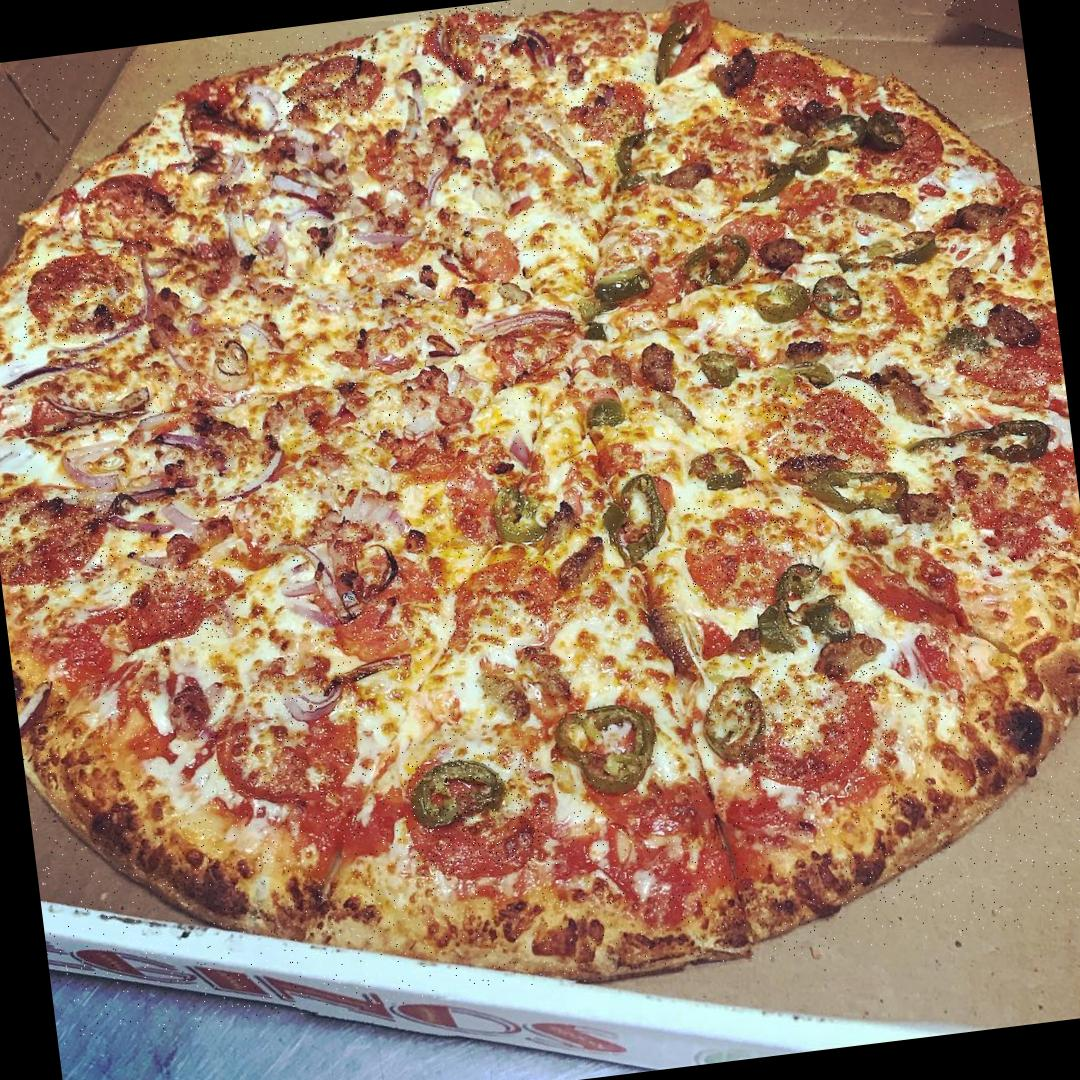Onion: (320, 457, 418, 600), (258, 532, 366, 636), (82, 465, 204, 550), (260, 116, 372, 208), (193, 146, 261, 281), (399, 364, 497, 445), (29, 377, 151, 432), (42, 306, 152, 366), (280, 192, 376, 260), (467, 301, 584, 352), (474, 20, 561, 83), (526, 117, 592, 200), (0, 348, 113, 396), (205, 445, 293, 506), (53, 435, 135, 499), (386, 64, 440, 151), (326, 648, 419, 698), (416, 142, 472, 214), (140, 416, 218, 467), (279, 678, 356, 729), (236, 77, 291, 148), (222, 309, 290, 364), (13, 675, 64, 745), (129, 248, 166, 336), (353, 217, 430, 258), (148, 328, 200, 386), (363, 341, 426, 377), (254, 209, 294, 263), (203, 591, 241, 646), (504, 422, 540, 478), (132, 546, 184, 579), (177, 308, 212, 344)
Pepperoni: (199, 661, 370, 798), (732, 657, 895, 791), (399, 747, 551, 879), (944, 436, 1080, 573), (678, 492, 815, 612), (840, 522, 978, 640), (109, 552, 250, 652), (429, 550, 572, 647), (761, 374, 895, 476), (12, 242, 140, 345), (948, 302, 1066, 413), (0, 483, 116, 593), (846, 95, 956, 201), (712, 35, 834, 124), (417, 1, 527, 90), (74, 160, 178, 250), (278, 46, 389, 124), (562, 70, 658, 144), (450, 208, 538, 287)
Peppers: (744, 547, 865, 665), (548, 696, 670, 810), (904, 408, 1058, 480), (406, 749, 520, 838), (692, 669, 780, 778), (590, 468, 678, 576), (803, 459, 914, 528), (606, 121, 674, 206), (676, 228, 758, 298), (832, 228, 940, 278), (483, 480, 550, 560), (678, 442, 753, 501), (642, 16, 697, 89), (928, 318, 1002, 372), (584, 264, 658, 317), (746, 276, 814, 332), (762, 356, 838, 404), (810, 112, 872, 160), (689, 344, 744, 398), (861, 105, 908, 165), (784, 132, 834, 186), (738, 160, 796, 206), (576, 393, 634, 438)
Pizza: (0, 0, 1080, 1046)
